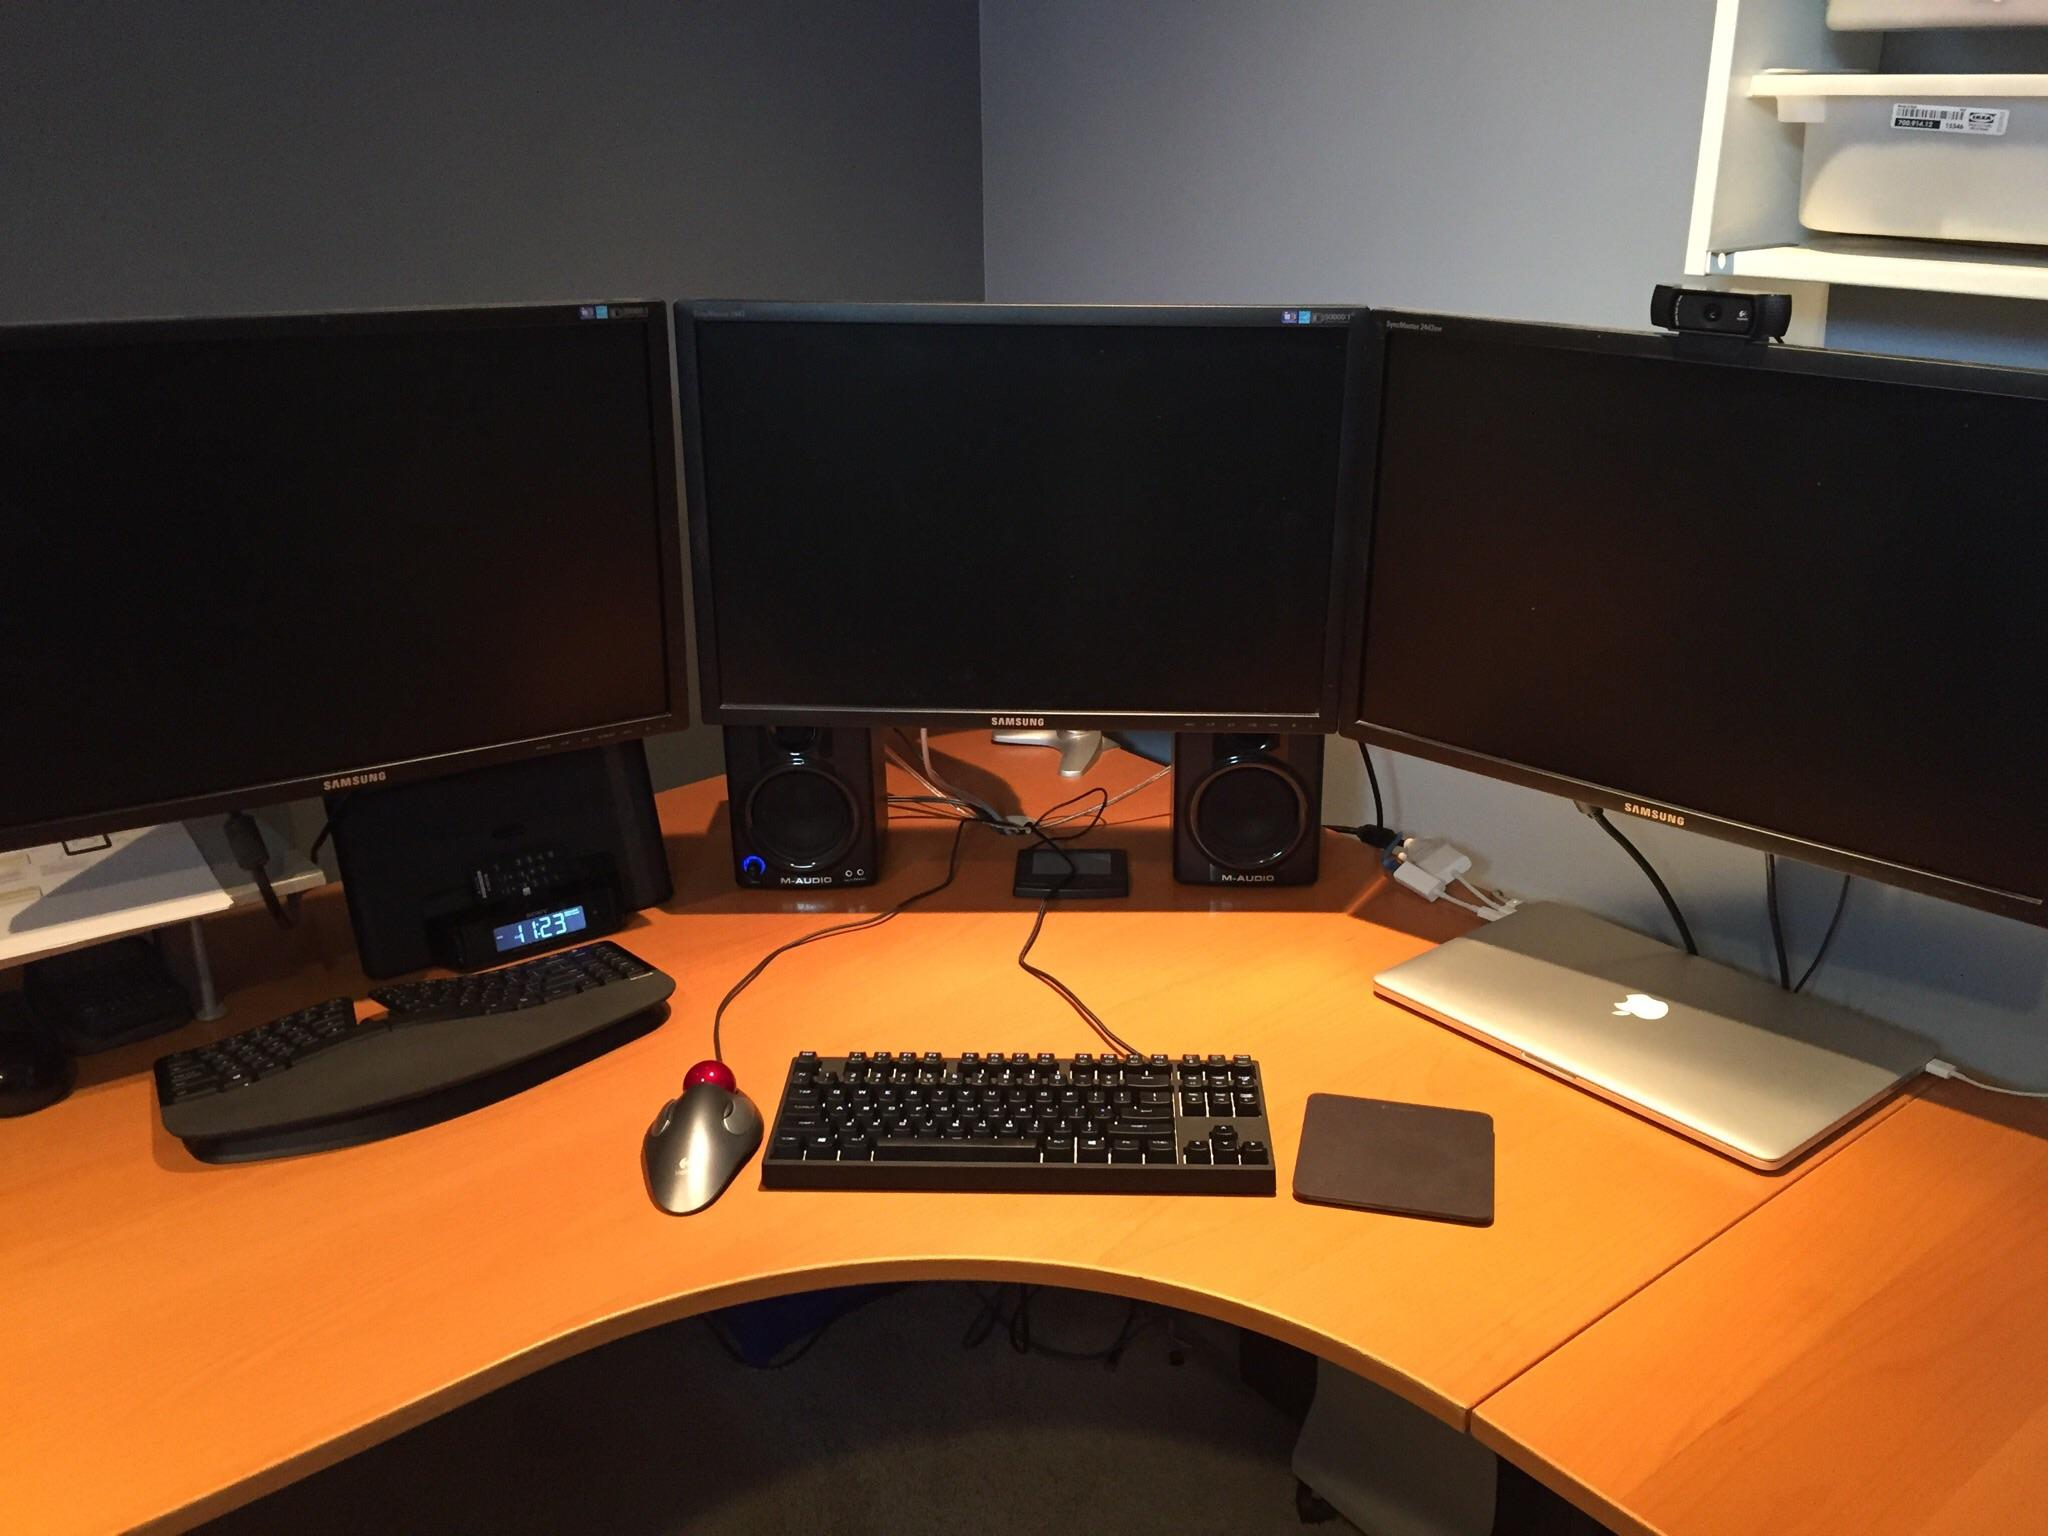Decoration (Clock): (311, 723, 681, 981)
Desk (Generic): (26, 708, 2025, 1534)
External Speakers (Subwoofers): (719, 707, 901, 905), (1163, 705, 1329, 886)
External Webcam: (1638, 279, 1801, 361)
Keyboard (Ergonomic): (144, 941, 681, 1178)
Keyboard (Generic): (766, 1046, 1290, 1208)
Laptop (OSX): (1372, 883, 1954, 1176)
Monitor (Landscape): (1343, 316, 2048, 936), (2, 287, 697, 766), (672, 286, 1338, 737)
Mouse (Ergonomic): (635, 1041, 766, 1228)
Mouse (Magic Trackpad): (1287, 1081, 1505, 1236)
